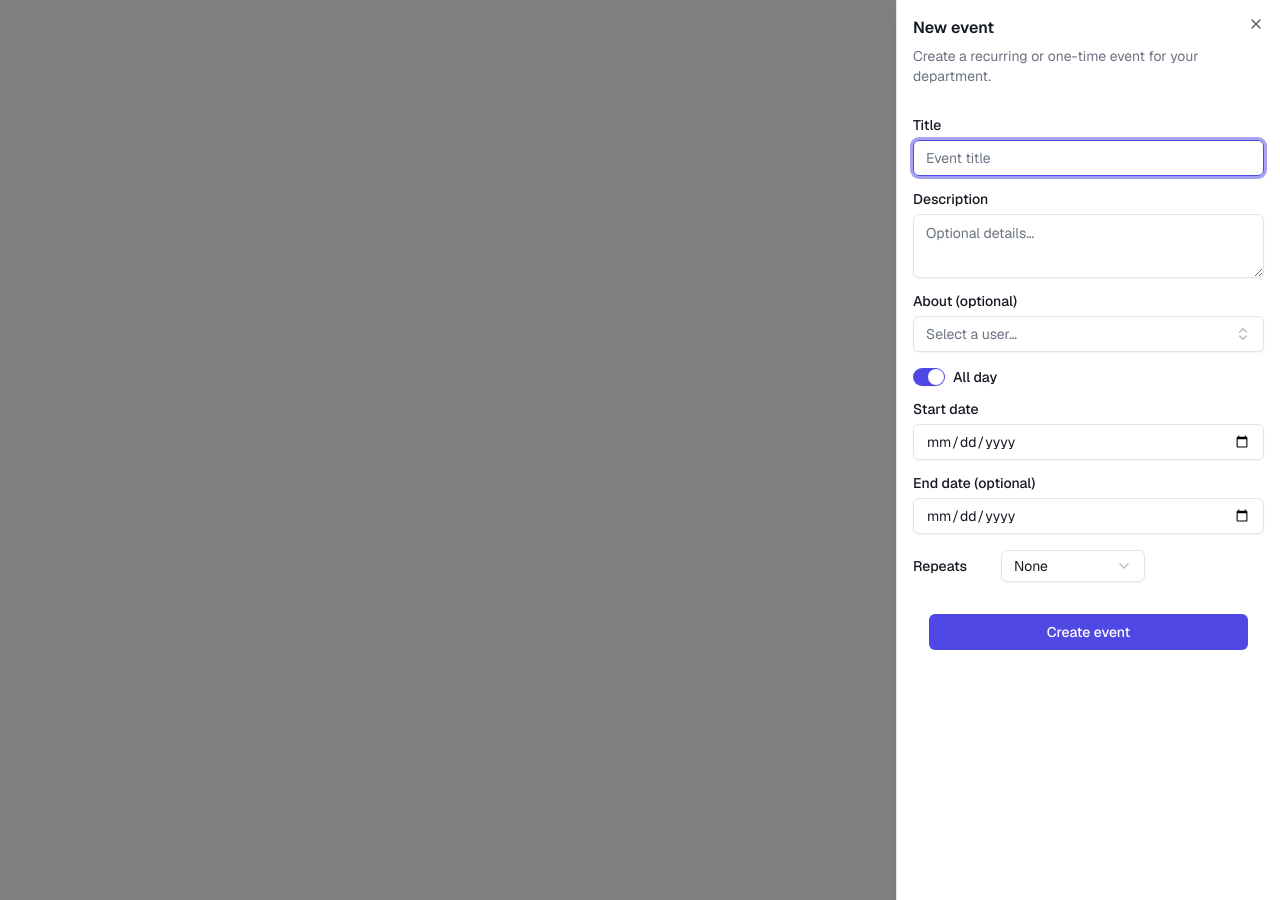
Test: EventSheet › blocks submit when end_date is before start_date and shows an error
Type "Bad span" into the field labelled "Title" at (1088, 158), box x1=913 y1=140 x2=1264 y2=176
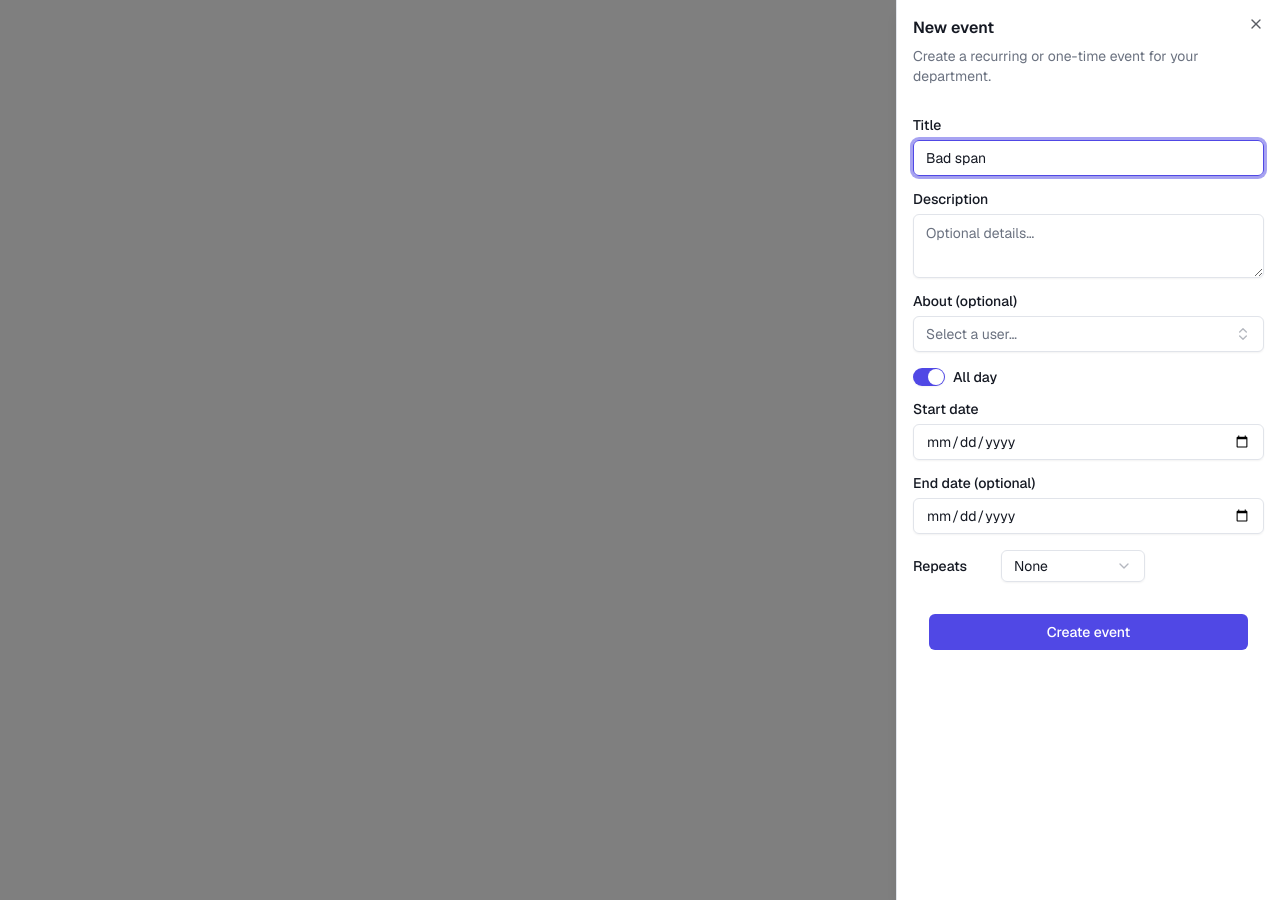
Type "2026-07-10" into the date field labelled "Start date" at (1088, 442), box x1=913 y1=424 x2=1264 y2=460
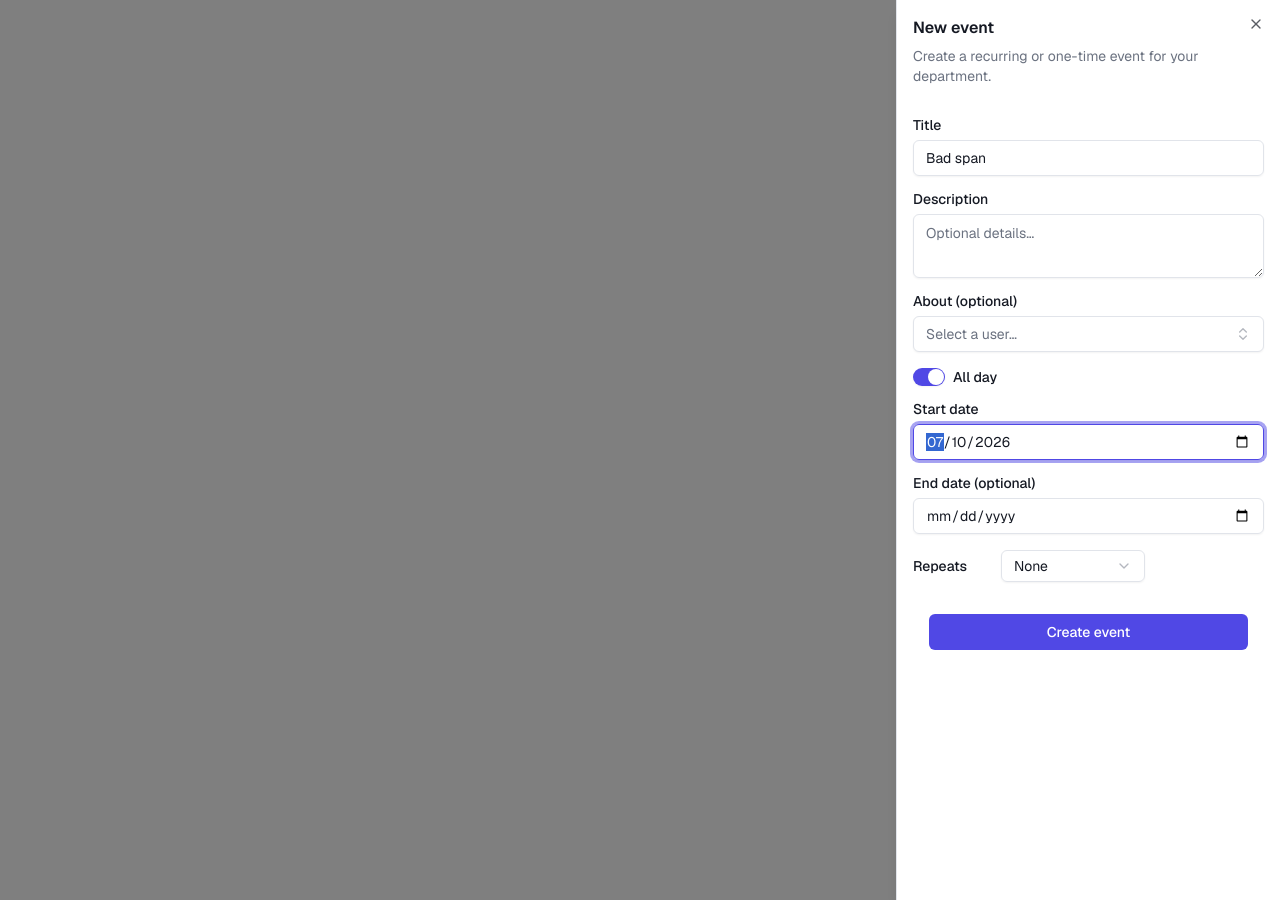
Type "2026-07-05" into the date field labelled "End date (optional)" at (1088, 516), box x1=913 y1=498 x2=1264 y2=534
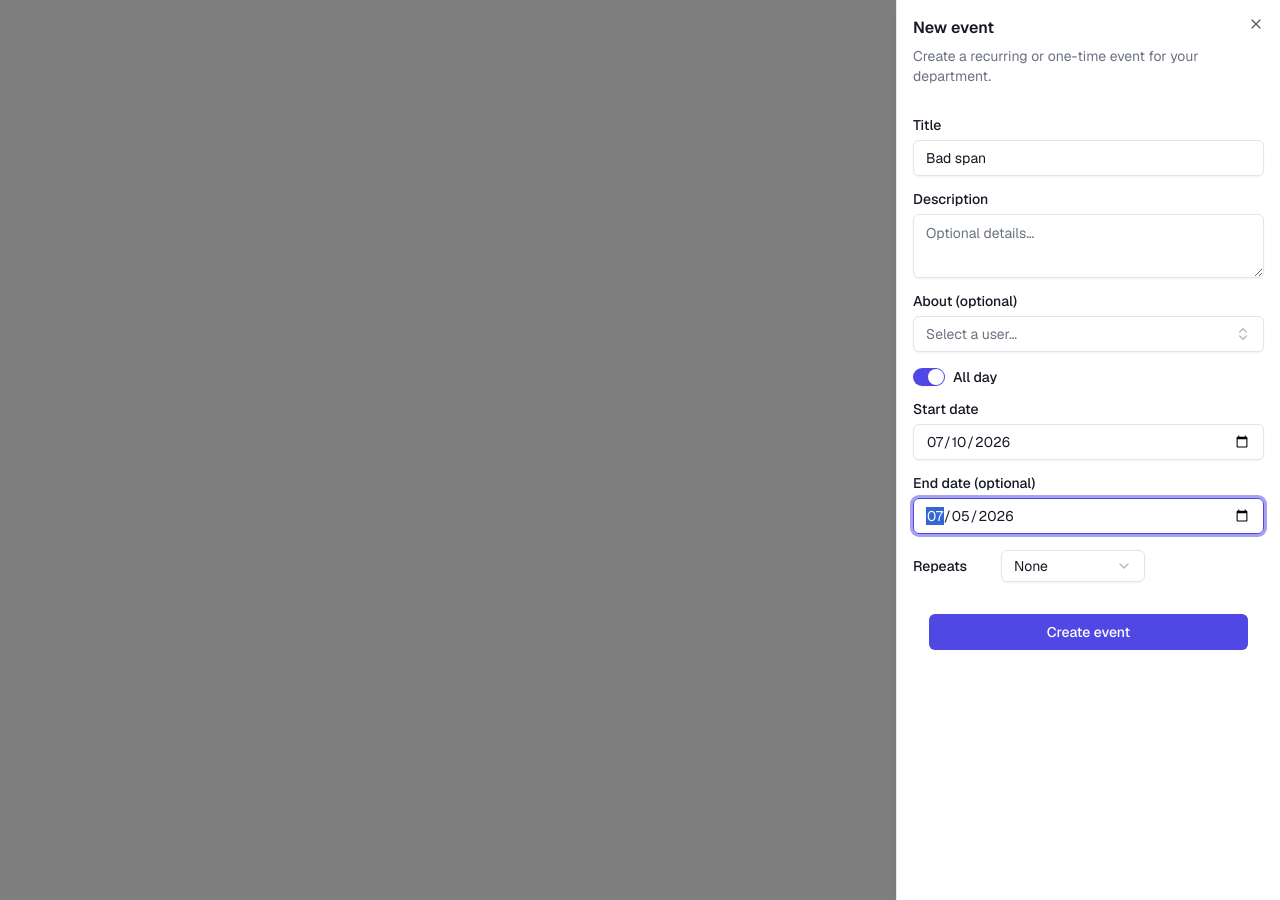
Click the button "Create event" at (1088, 632), box x1=929 y1=614 x2=1248 y2=650
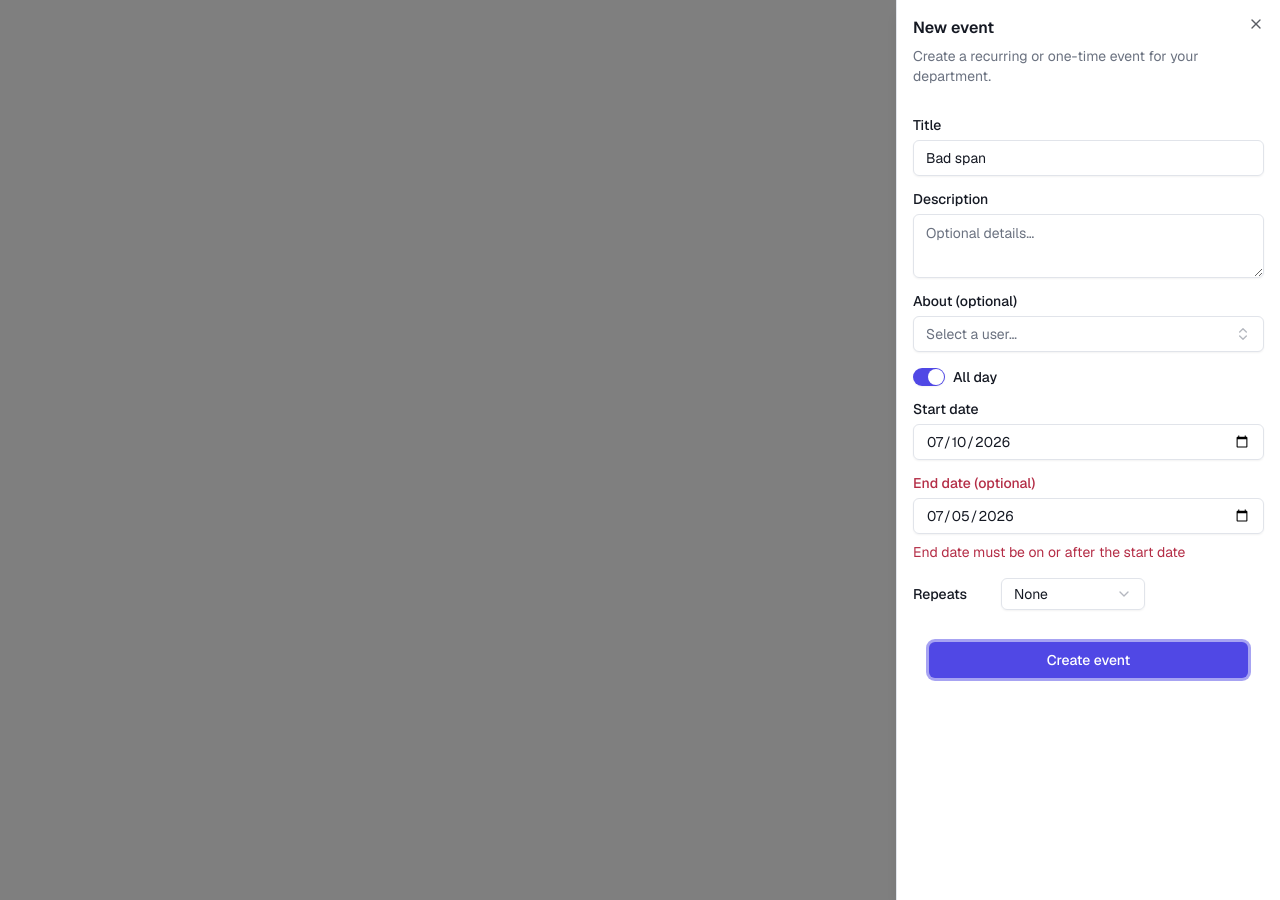
Result: the text "End date must be on or after the start date" is shown at x1=913 y1=543 x2=1185 y2=561
